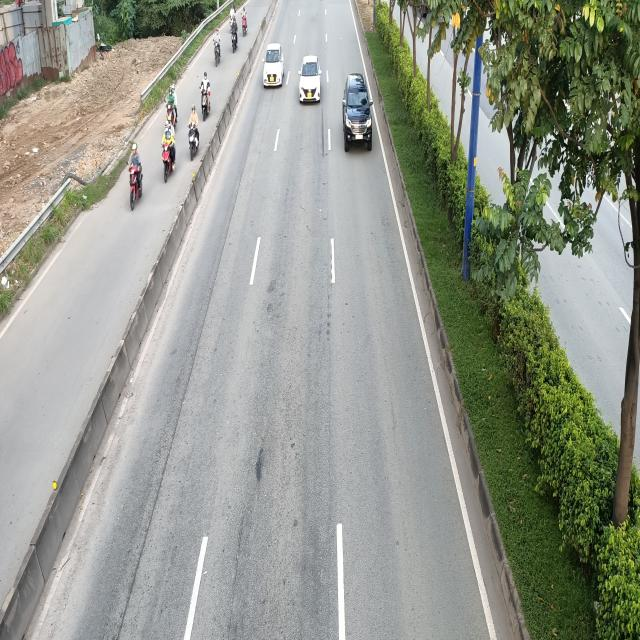car: (342, 75, 374, 154), (299, 55, 323, 104), (264, 44, 287, 90)
